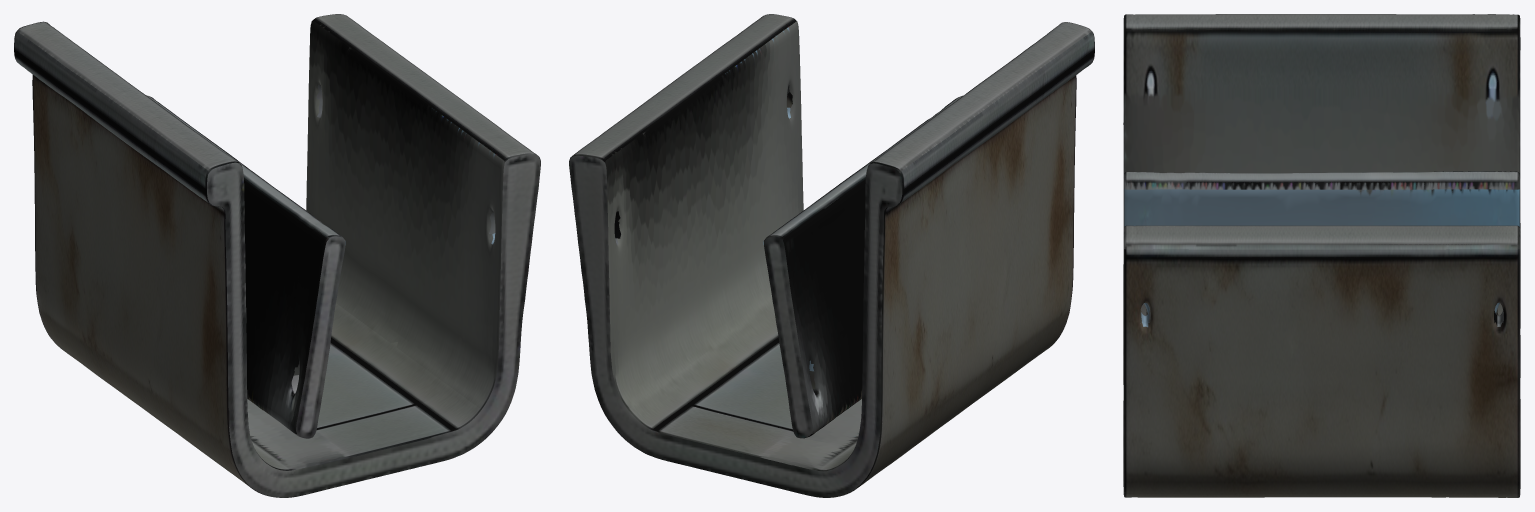
File: roof-gutter.glb
3 views of the same model, side by side, from view 1: azimuth 30°, elevation 25°; view 2: azimuth 150°, elevation 25°; view 3: azimuth 270°, elevation 25° (orthographic). The views are drawn at different scales.
Parts seen in each view (by area): view 1: tmpmu5mr86w.ply; view 2: tmpmu5mr86w.ply; view 3: tmpmu5mr86w.ply.
Boxes of the visible parts, x1,y1,x2,y2 form: tmpmu5mr86w.ply: (14, 14, 540, 497); tmpmu5mr86w.ply: (569, 14, 1094, 497); tmpmu5mr86w.ply: (1123, 14, 1520, 497).
Size of the model in its own units: 1 by 1 by 1.
Materials: 1 (1 with a texture image).
